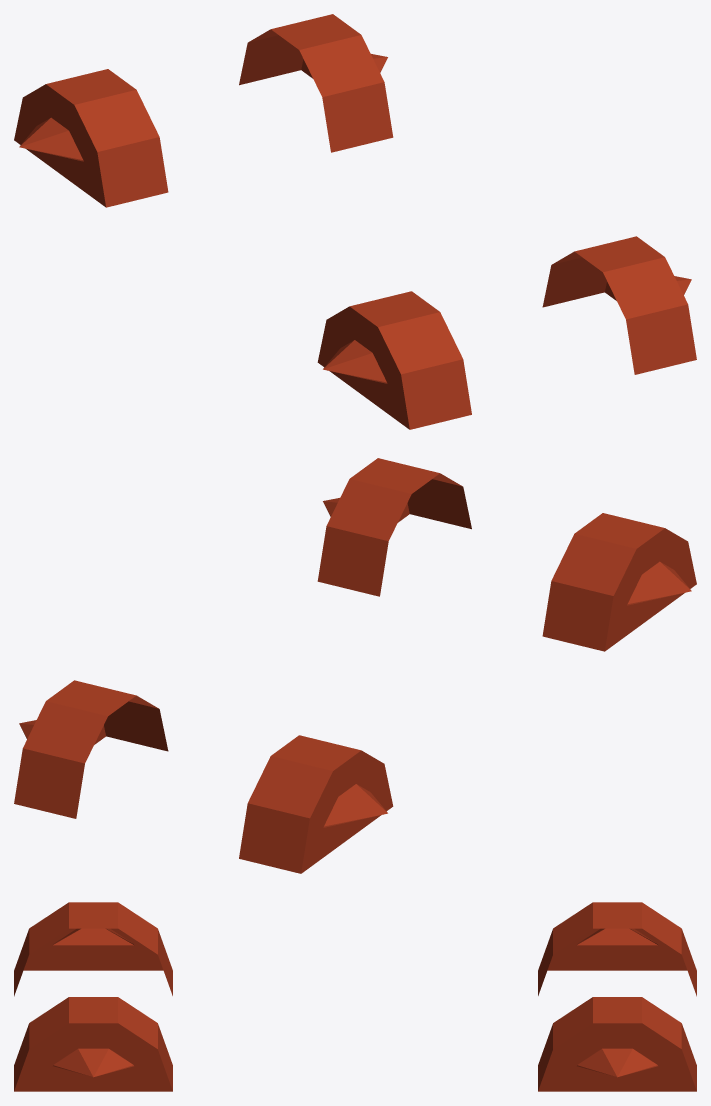
Rendered from wheelGuards2.glb.
The picture shows the model from 3 angles, top to bottom: view 1: azimuth 30°, elevation 25°; view 2: azimuth 150°, elevation 25°; view 3: azimuth 270°, elevation 25°; orthographic projection. The views are drawn at different scales.
Parts seen in each view (by area): view 1: wheelguards2; view 2: wheelguards2; view 3: wheelguards2.
Boxes of the visible parts, x1,y1,x2,y2 form: wheelguards2: (14,14,696,429); wheelguards2: (14,458,696,873); wheelguards2: (14,902,696,1091).
Bounding box in the file's own units: 4.44 × 0.9124 × 8.24.
Materials: 1 (1 with a texture image).
